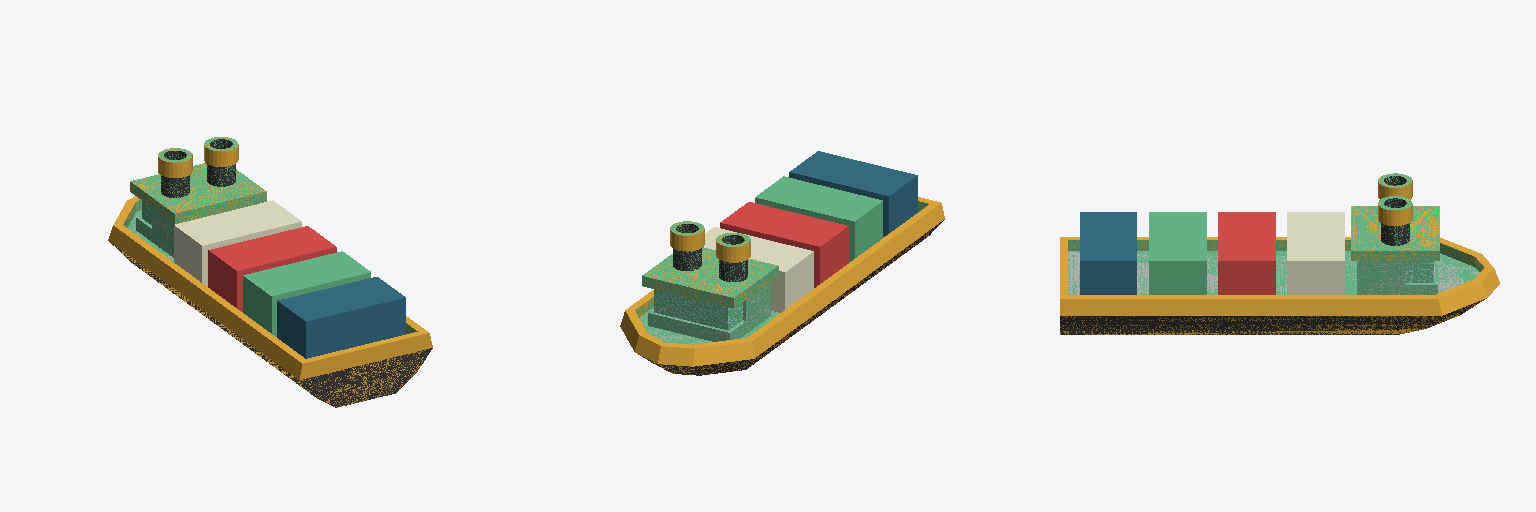
The model's file is boat_005.obj.
The picture shows the model from 3 angles: view 1: azimuth 30°, elevation 25°; view 2: azimuth 150°, elevation 25°; view 3: azimuth 270°, elevation 25°; orthographic projection.
Visible parts, largest first — view 1: Container, boat_005; view 2: boat_005, Container; view 3: boat_005, Container.
Part boxes in pixels (x1,y1,x2,y2): Container: (174, 200, 405, 358); boat_005: (108, 137, 432, 407); boat_005: (620, 197, 944, 375); Container: (704, 151, 917, 312); boat_005: (1060, 173, 1499, 334); Container: (1080, 212, 1344, 294).
Size of the model in its own units: 3.69 by 3.38 by 10.55.